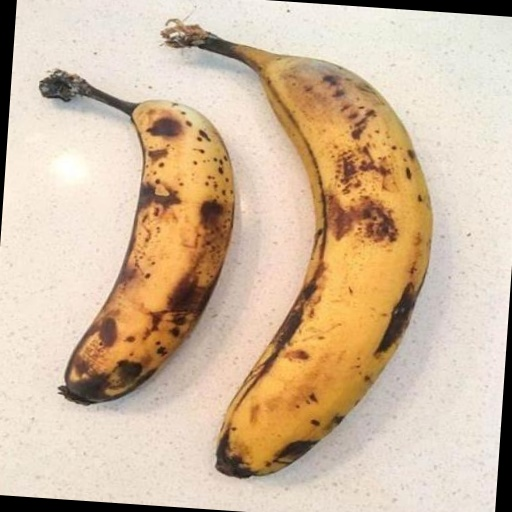fruit: (84, 0, 241, 62), (20, 40, 75, 152)
